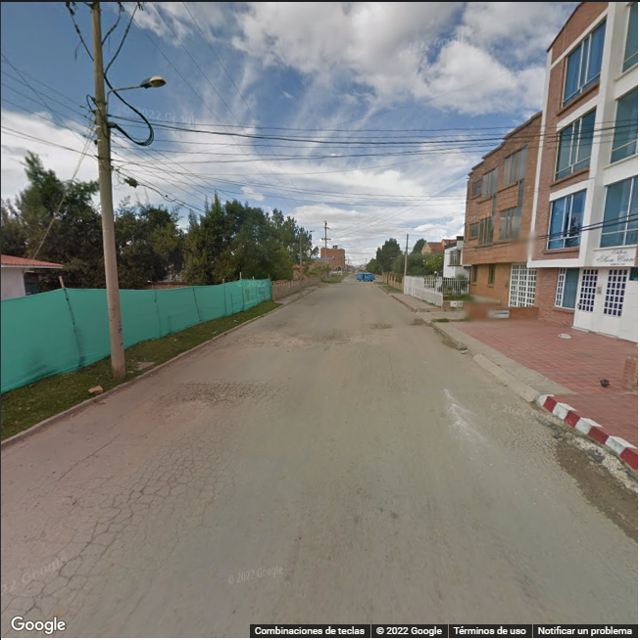D00: (124, 566, 161, 629), (169, 486, 186, 568)
D20: (10, 441, 201, 638)
